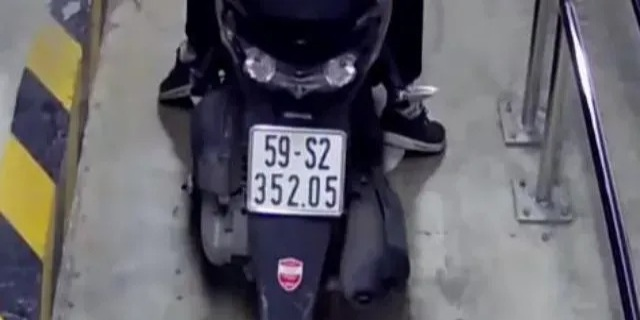bien_so: (250, 130, 345, 219)
